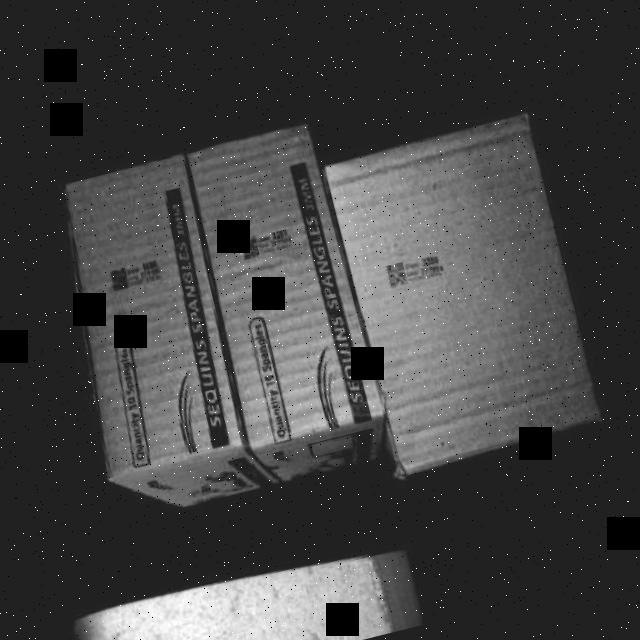box: (326, 111, 606, 475), (41, 148, 256, 476), (190, 121, 386, 445)
